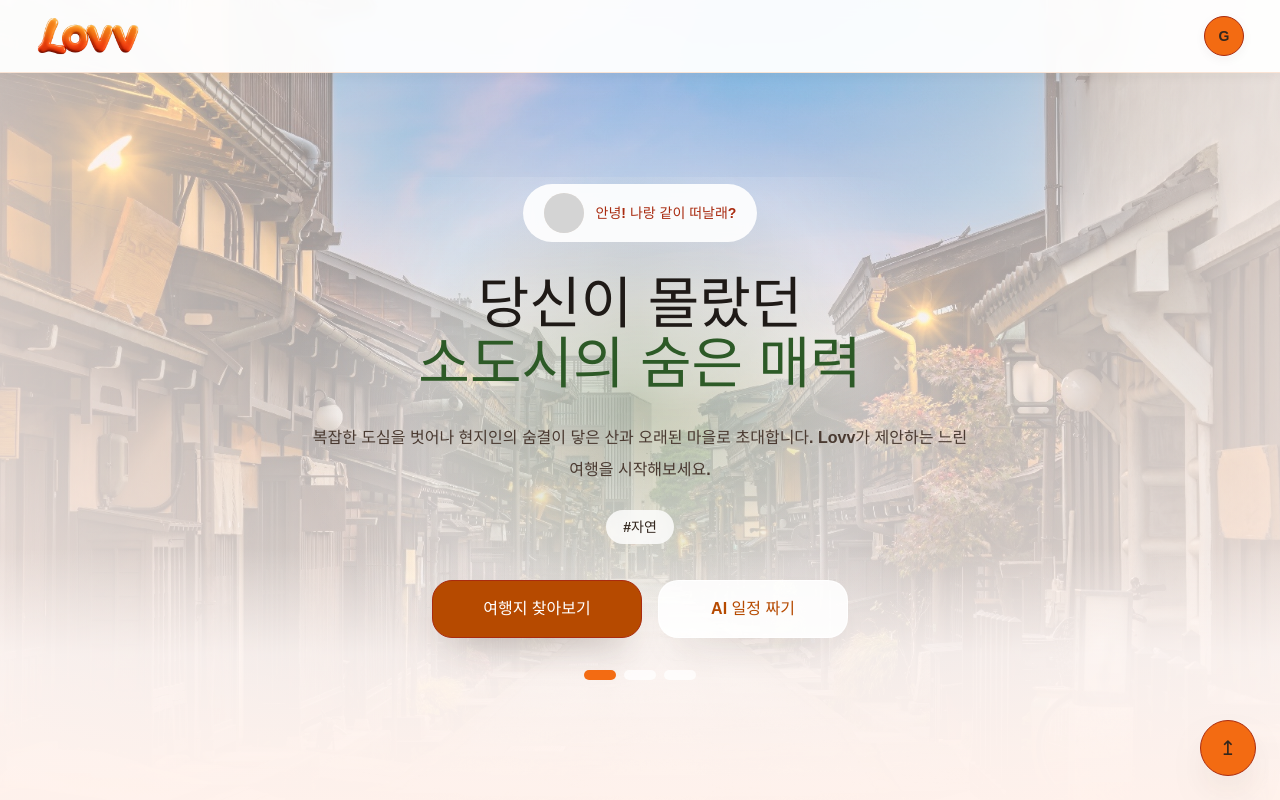
Test: MVP main entry screen › shows planner state header and updates schedule status after choices
Click the link "AI 일정 짜기" at (753, 610), box [658,580,848,638]
(page scrolled)
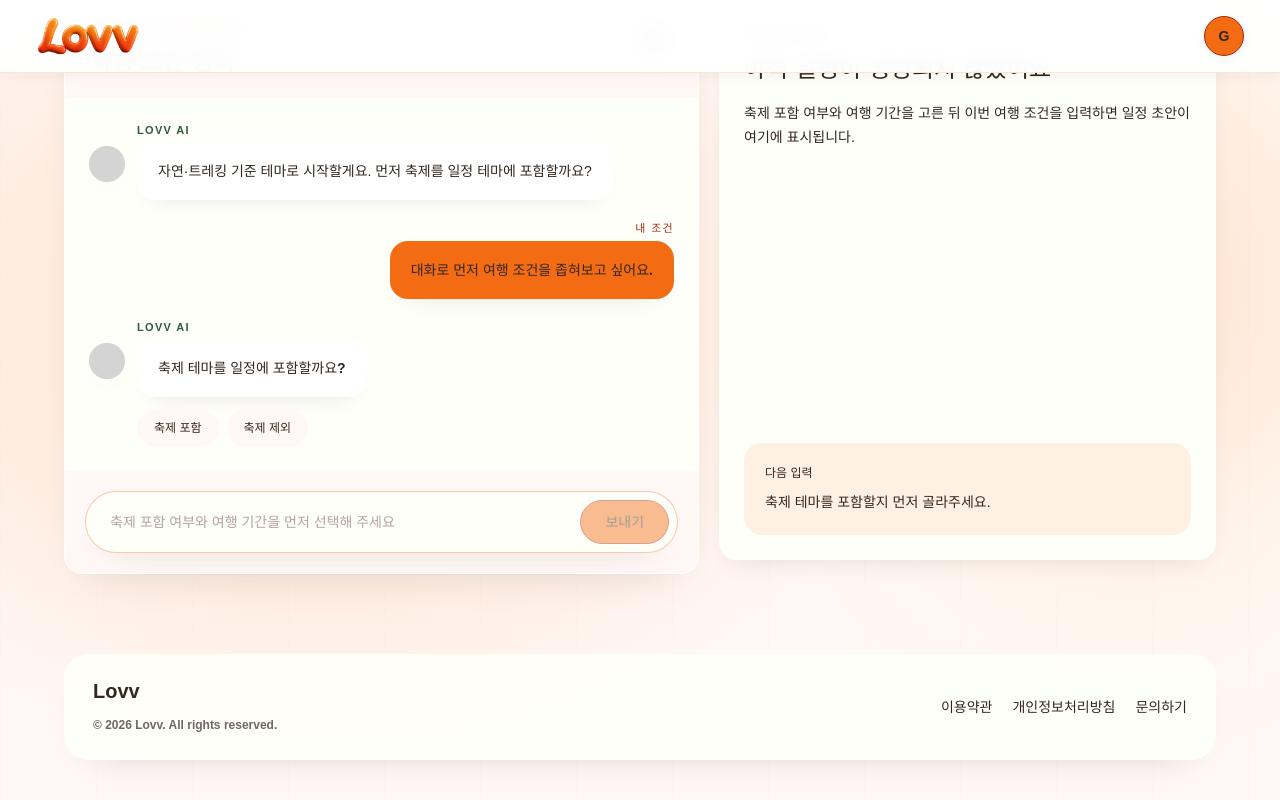
Click the button "축제 제외" at (267, 428), box [226,409,308,447]
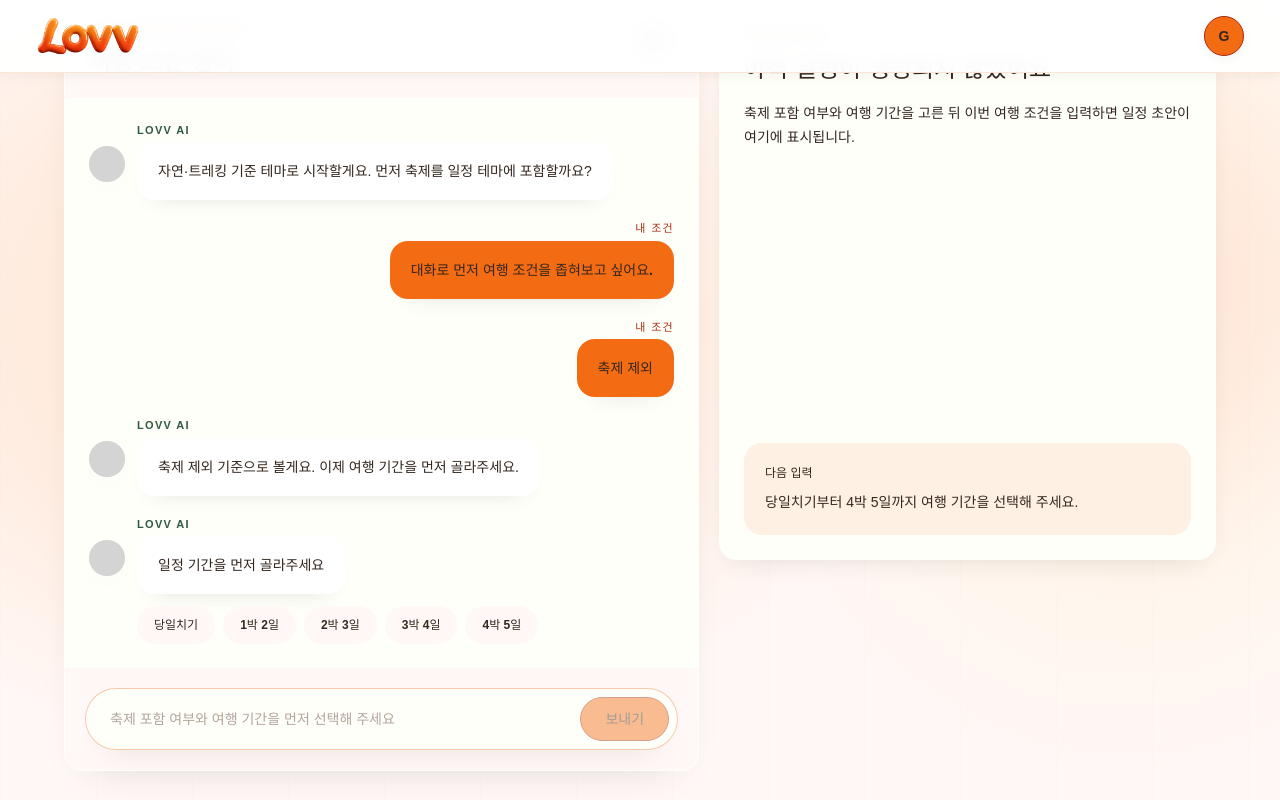
Click the button "1박 2일" at (260, 625), box [223,606,296,644]
(page scrolled)
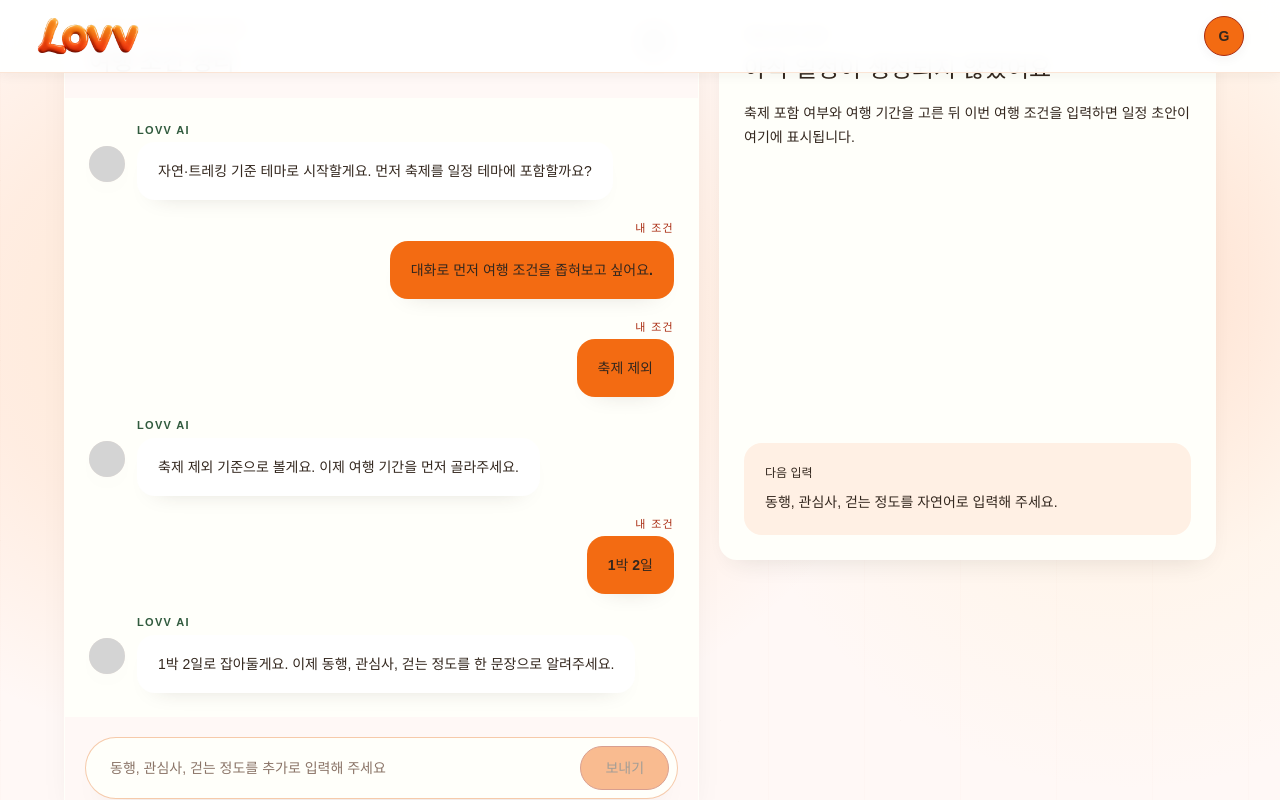
Type "숲길 위주로 덜 걷고 싶어요" into the field named "여행 조건 입력" at (331, 768), box [94,746,568,790]
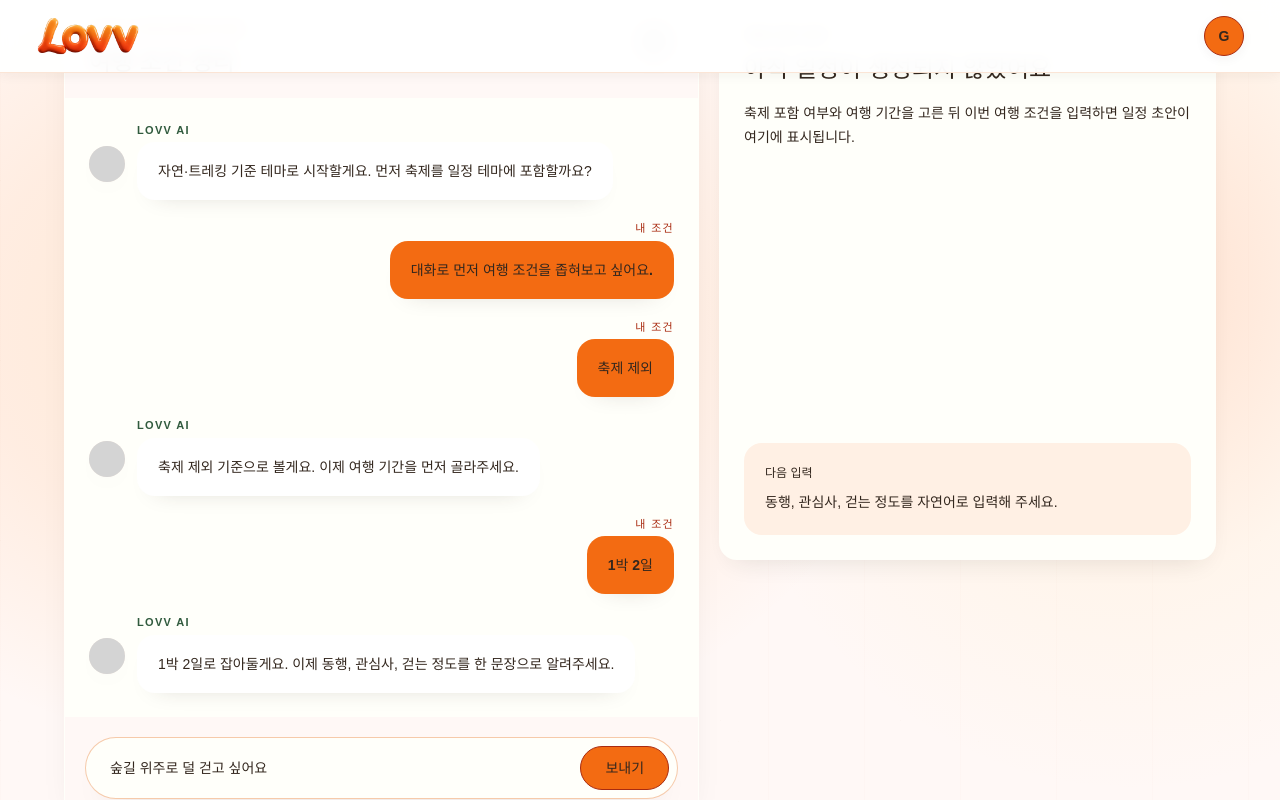
Click the button with aria-label "메시지 보내기" at (625, 768), box [580,746,669,790]
(page scrolled)
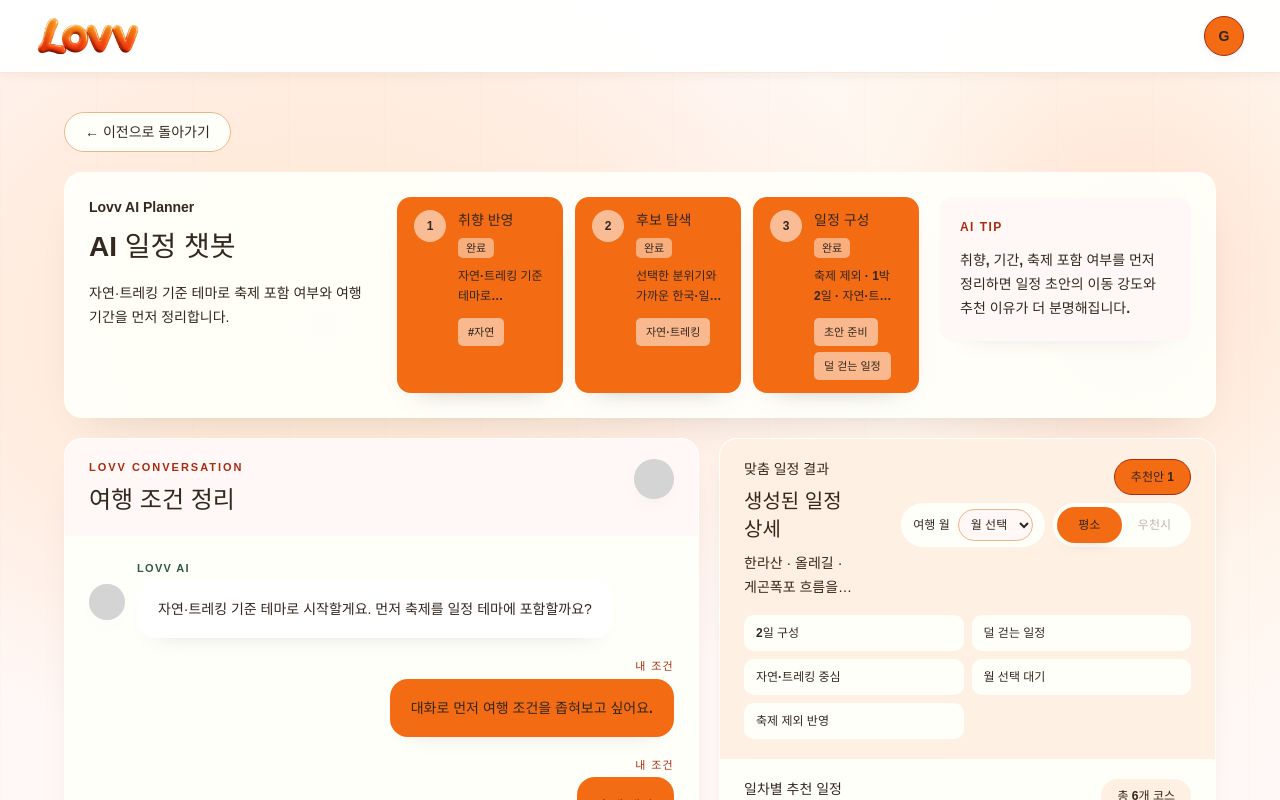
Check: the text "축제 제외 · 1박 2일 · 자연·트레킹 · 이동 부담 낮추기 조건으로 구성 중입니다." is shown, box [814,266,902,306]
Check: the text "초안 준비" is shown, box [814,318,878,346]
